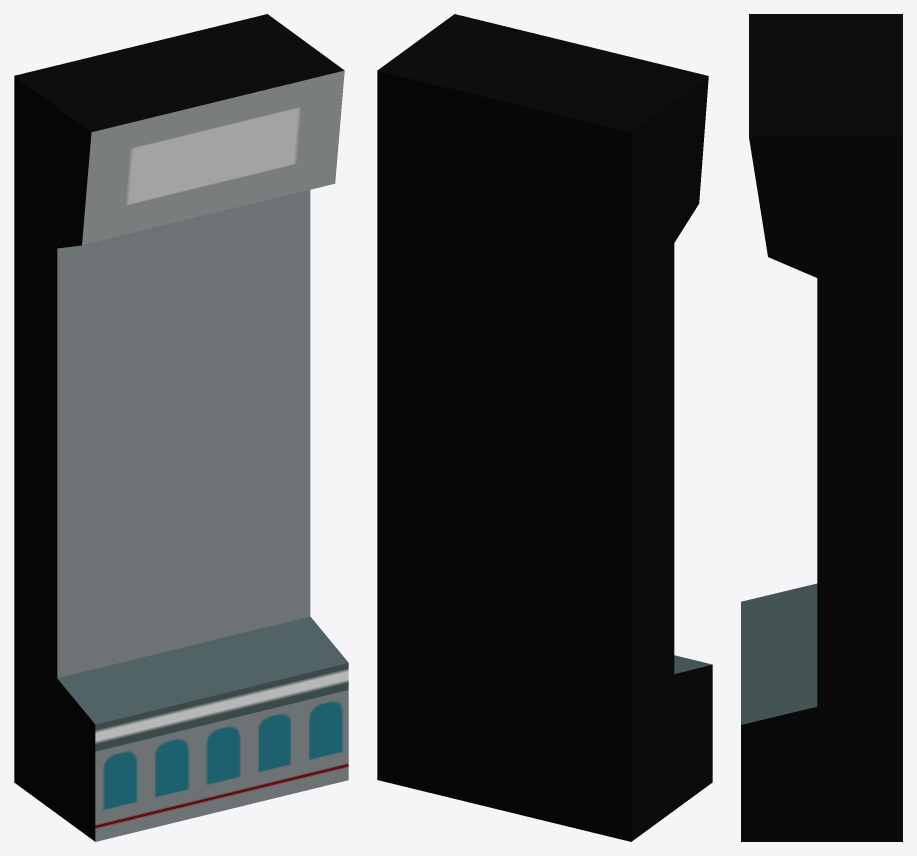
Rendered from SmallWallHalfCorridor_01.fbx.
3 views of the same model, side by side, from view 1: azimuth 30°, elevation 25°; view 2: azimuth 150°, elevation 25°; view 3: azimuth 270°, elevation 25° (orthographic).
Visible parts, largest first — view 1: Cube.031; view 2: Cube.031; view 3: Cube.031.
Part boxes in pixels (x1,y1,x2,y2): Cube.031: (14, 14, 348, 841); Cube.031: (377, 14, 712, 841); Cube.031: (741, 14, 902, 841).
Bounding box in the file's own units: 150 × 83.32 × 400.
